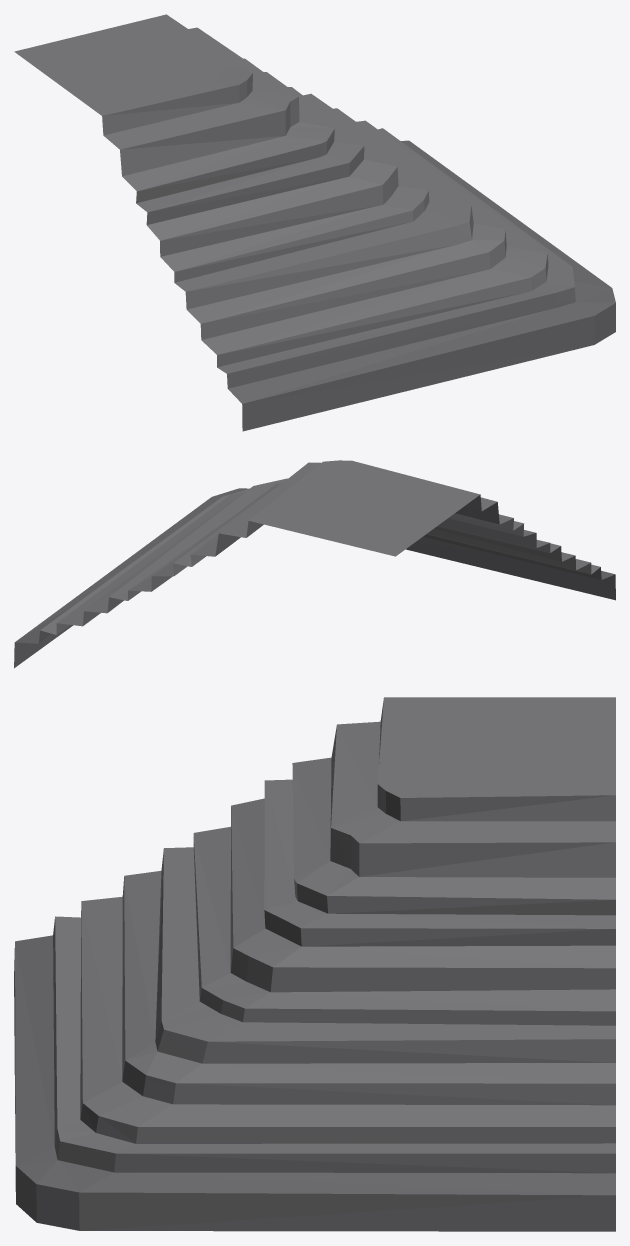
Rendered from SM_Bld_StairsLarge_Corner_01.gltf.
3 views of the same model, one above another, from view 1: azimuth 30°, elevation 25°; view 2: azimuth 150°, elevation 25°; view 3: azimuth 270°, elevation 25° (orthographic). The views are drawn at different scales.
Visible parts, largest first — view 1: SM_Bld_StairsLarge_Corner_01; view 2: SM_Bld_StairsLarge_Corner_01; view 3: SM_Bld_StairsLarge_Corner_01.
Part boxes in pixels (bbox=[...]): SM_Bld_StairsLarge_Corner_01: bbox=[14, 14, 615, 431]; SM_Bld_StairsLarge_Corner_01: bbox=[14, 460, 615, 668]; SM_Bld_StairsLarge_Corner_01: bbox=[14, 697, 615, 1231].
Bounding box in the file's own units: 3.86 × 1.98 × 3.86.
Materials: 1 (1 with a texture image).
